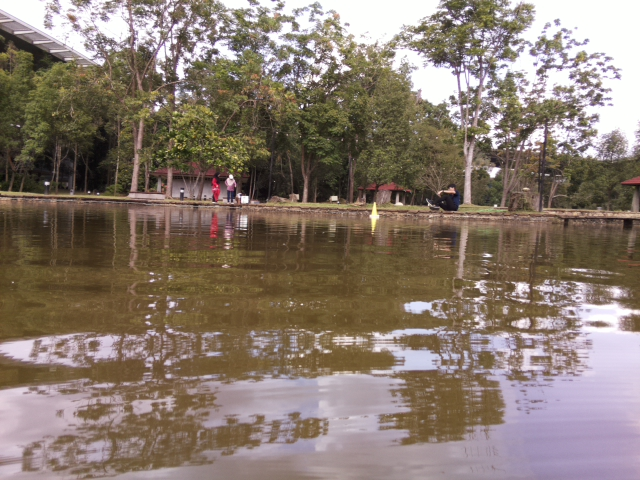checkpoint: (368, 200, 381, 220)
